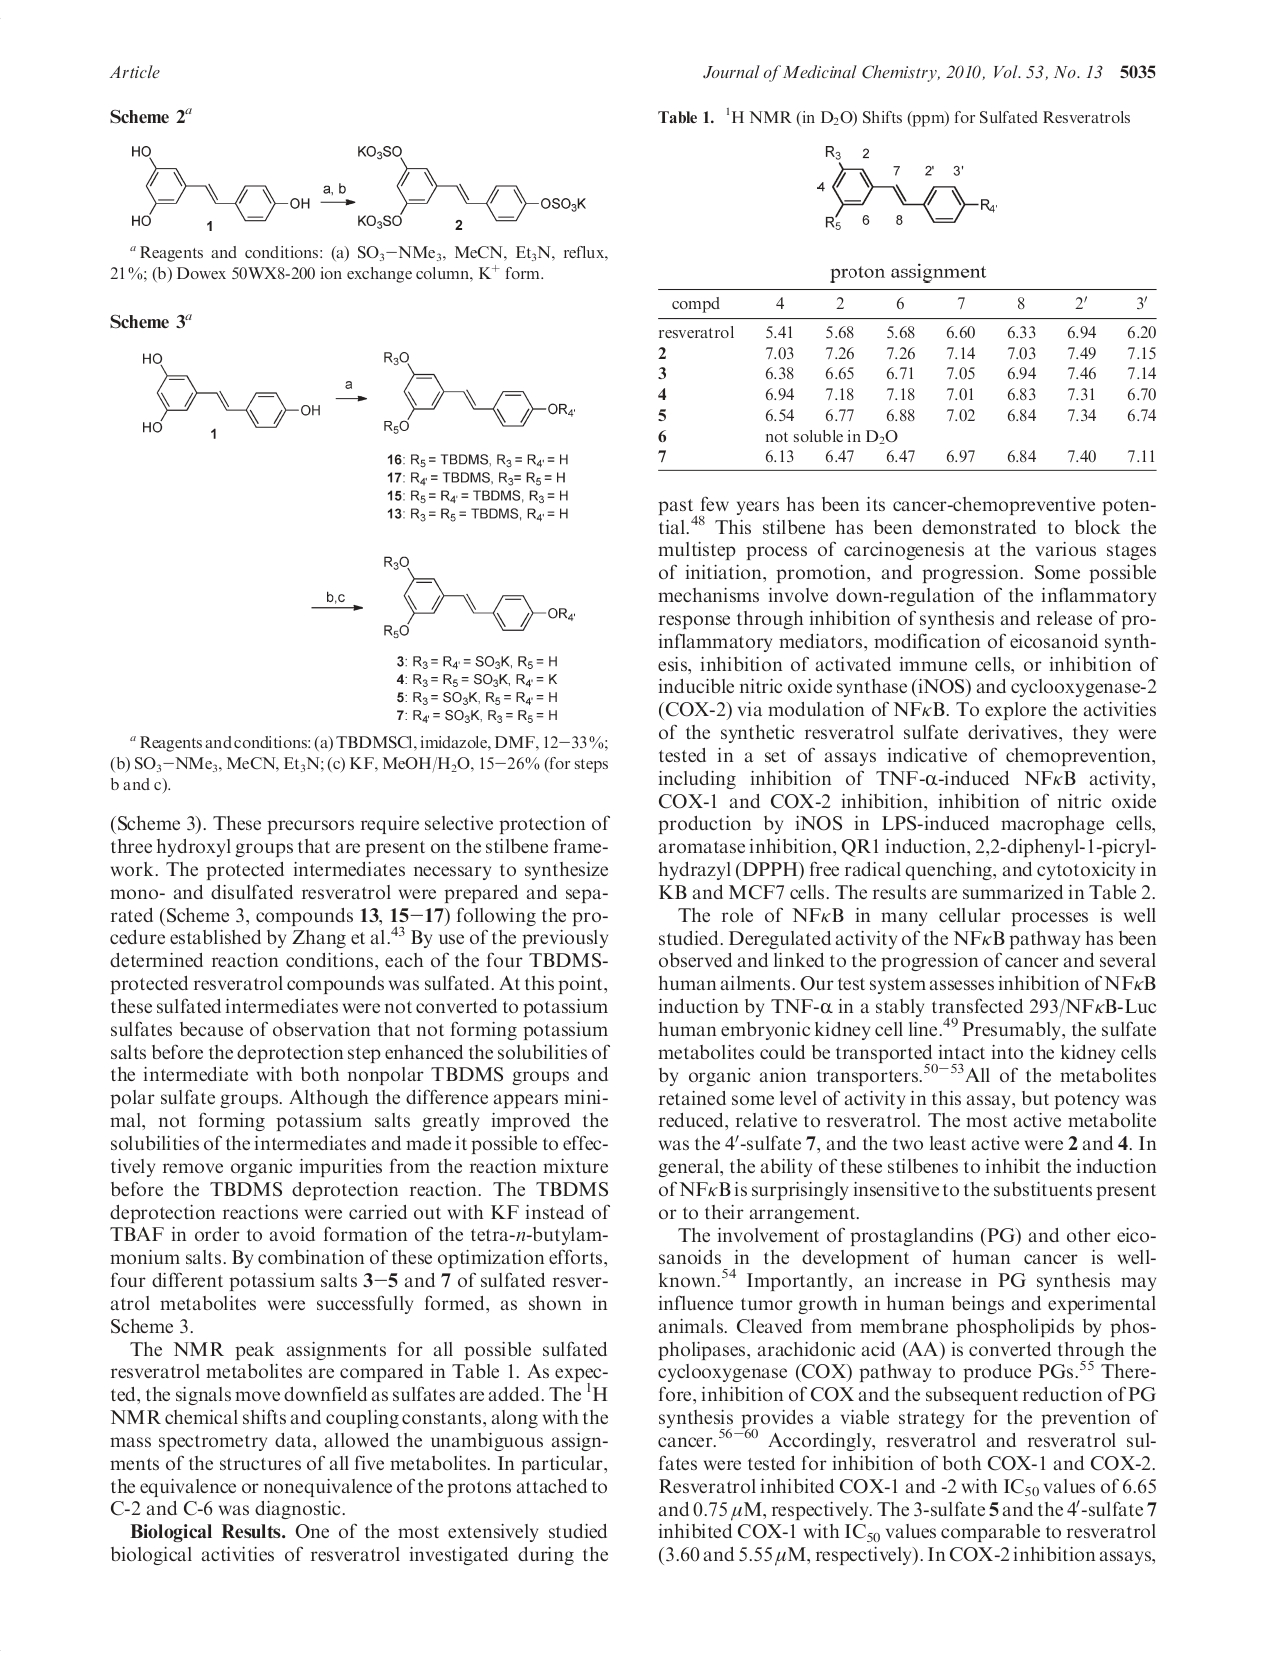exist_molecular: (356, 144, 586, 230), (125, 137, 314, 227), (382, 350, 576, 436), (382, 555, 577, 640), (824, 144, 997, 231), (141, 350, 320, 434)
